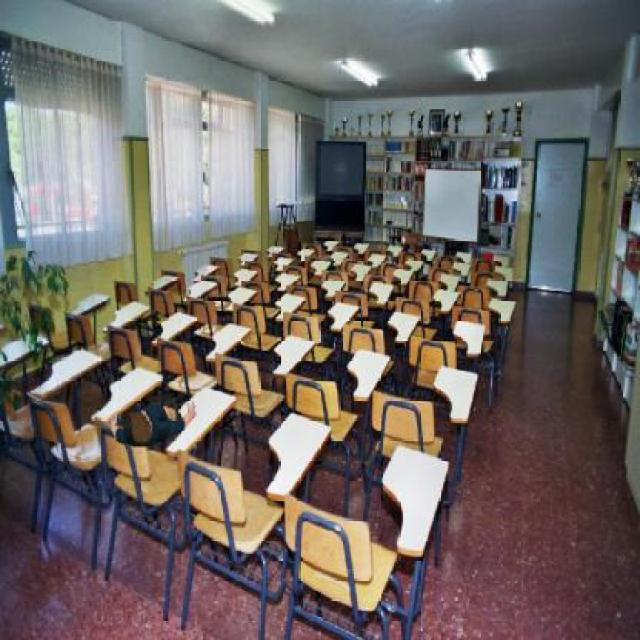Person: (110, 395, 198, 453)
